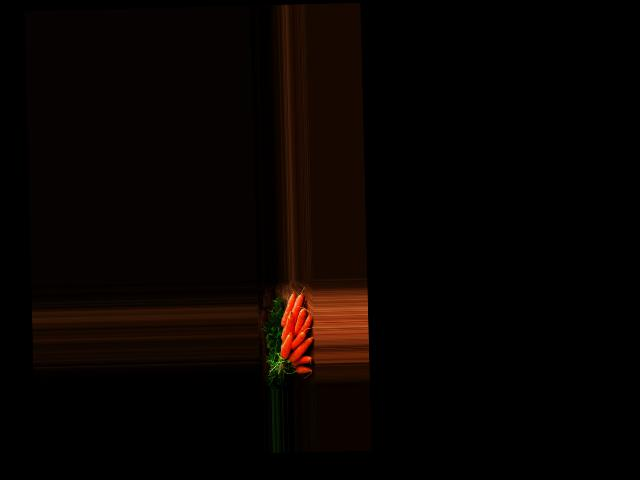carrot: (293, 365, 312, 376)
